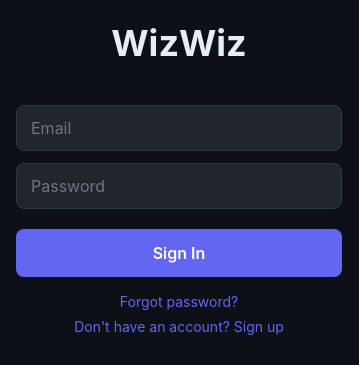
Test: auth flow › shows an error message on failed sign in
The image size is (359, 365).
Type "jack@example.com" into the field with placeholder "Email" at (179,128), box [16,105,342,151]
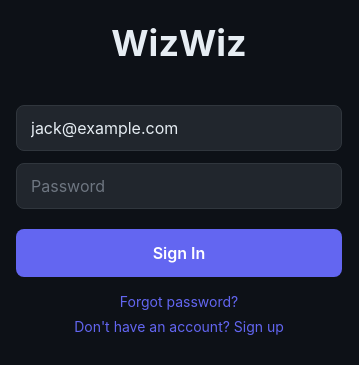
Type "wrongpassword" into the password field with placeholder "Password" at (179,186), box [16,163,342,209]
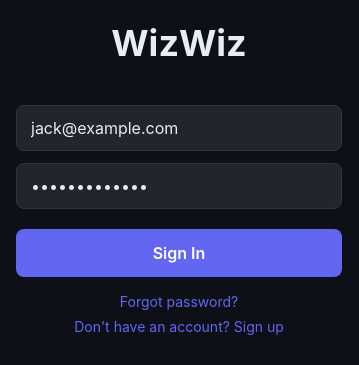
Click the text "Sign In" at (179,253), box [153,243,205,263]
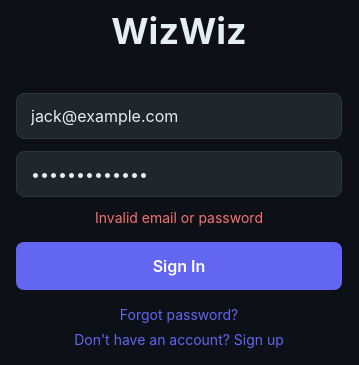
Check: the text "Invalid email or password" is shown, box [95,208,263,226]
